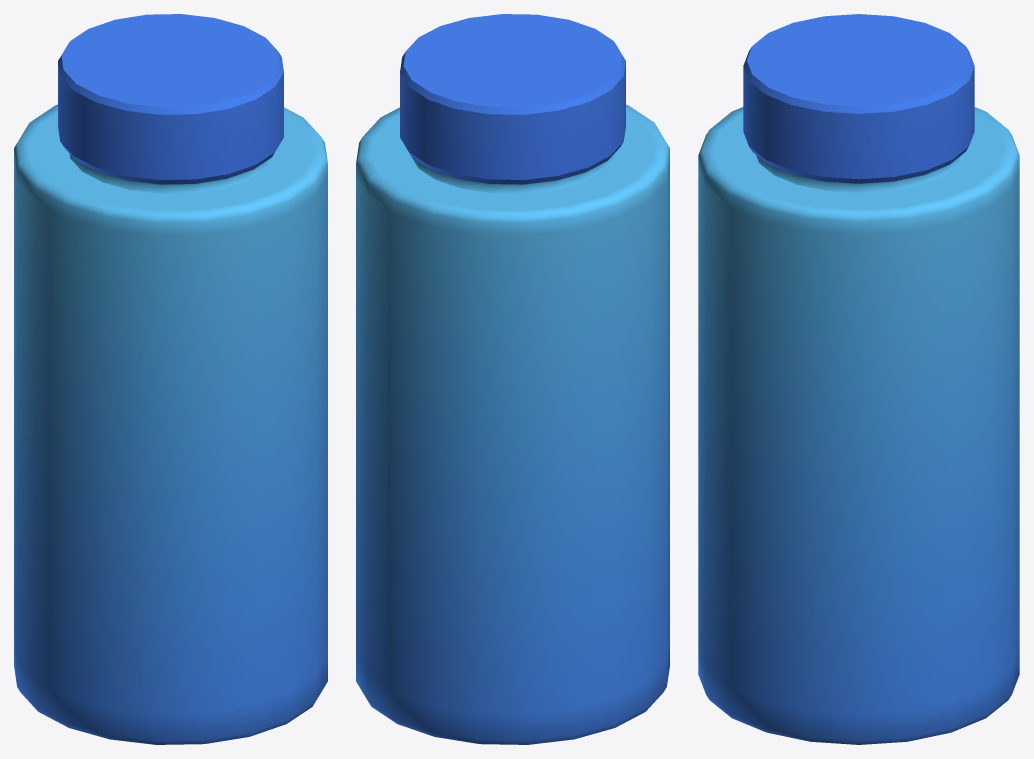
Rendered from bottle_flat_blue.fbx.
3 renders of one model, left to right at view 1: azimuth 30°, elevation 25°; view 2: azimuth 150°, elevation 25°; view 3: azimuth 270°, elevation 25°, orthographic.
Parts seen in each view (by area): view 1: bottle_flat_blue; view 2: bottle_flat_blue; view 3: bottle_flat_blue.
Boxes of the visible parts, x1,y1,x2,y2 form: bottle_flat_blue: (14,14,327,744); bottle_flat_blue: (356,14,669,744); bottle_flat_blue: (698,14,1019,744).
Size of the model in its own units: 107 by 234 by 110.
